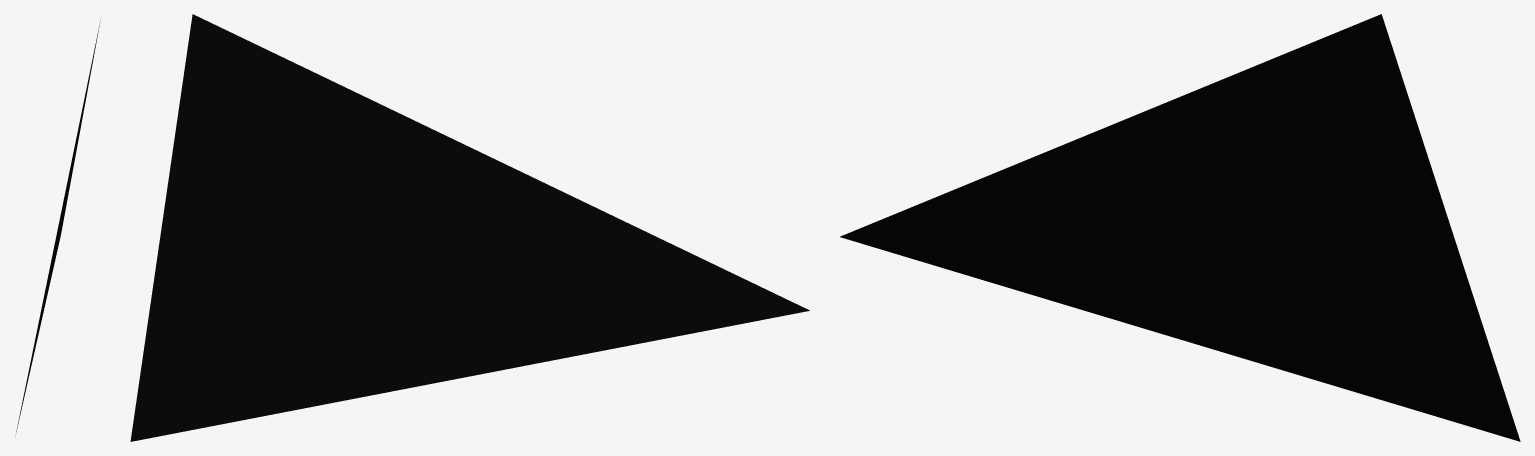
3 renders of one model, left to right at view 1: azimuth 30°, elevation 25°; view 2: azimuth 150°, elevation 25°; view 3: azimuth 270°, elevation 25°, orthographic. The views are drawn at different scales.
Bounding box in the file's own units: 2.1 × 2.05 × 2.95.
Materials: 1 (1 with a texture image).
